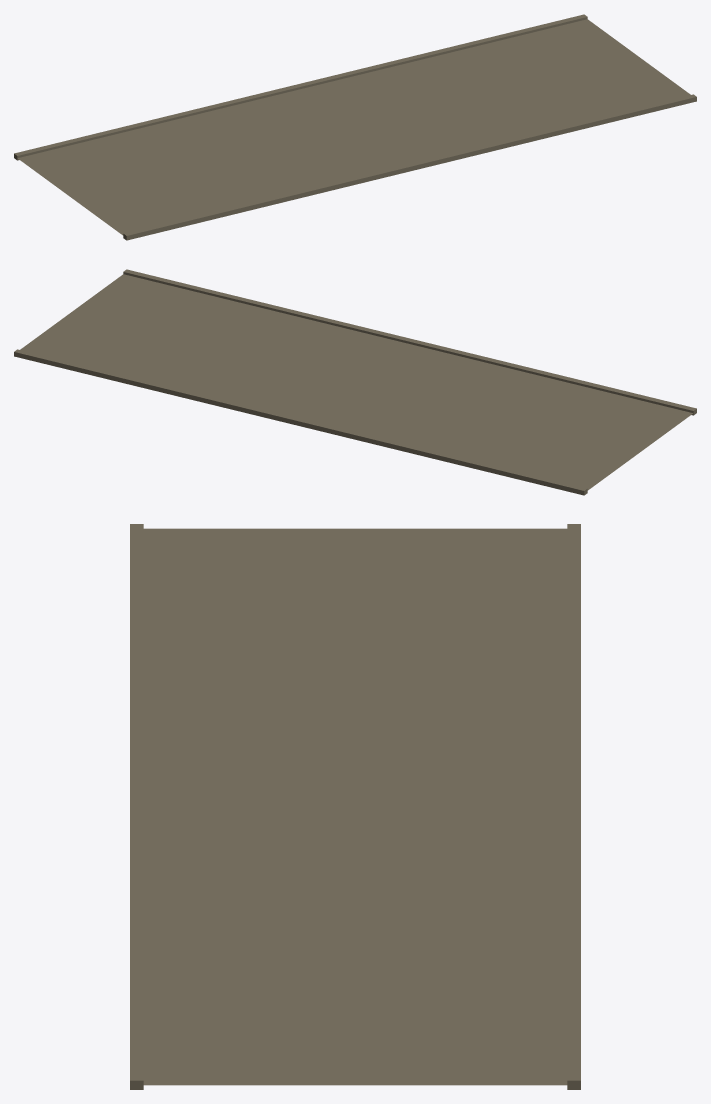
The model's file is SM_roofpiece_04.fbx.
3 views of the same model, one above another, from view 1: azimuth 30°, elevation 25°; view 2: azimuth 150°, elevation 25°; view 3: azimuth 270°, elevation 25° (orthographic). The views are drawn at different scales.
Visible parts, largest first — view 1: roofpiece_04; view 2: roofpiece_04; view 3: roofpiece_04.
Part boxes in pixels (x1,y1,x2,y2): roofpiece_04: (14, 14, 696, 240); roofpiece_04: (14, 269, 696, 495); roofpiece_04: (130, 524, 580, 1089).
Size of the model in its own units: 585 by 4.52 by 200.
